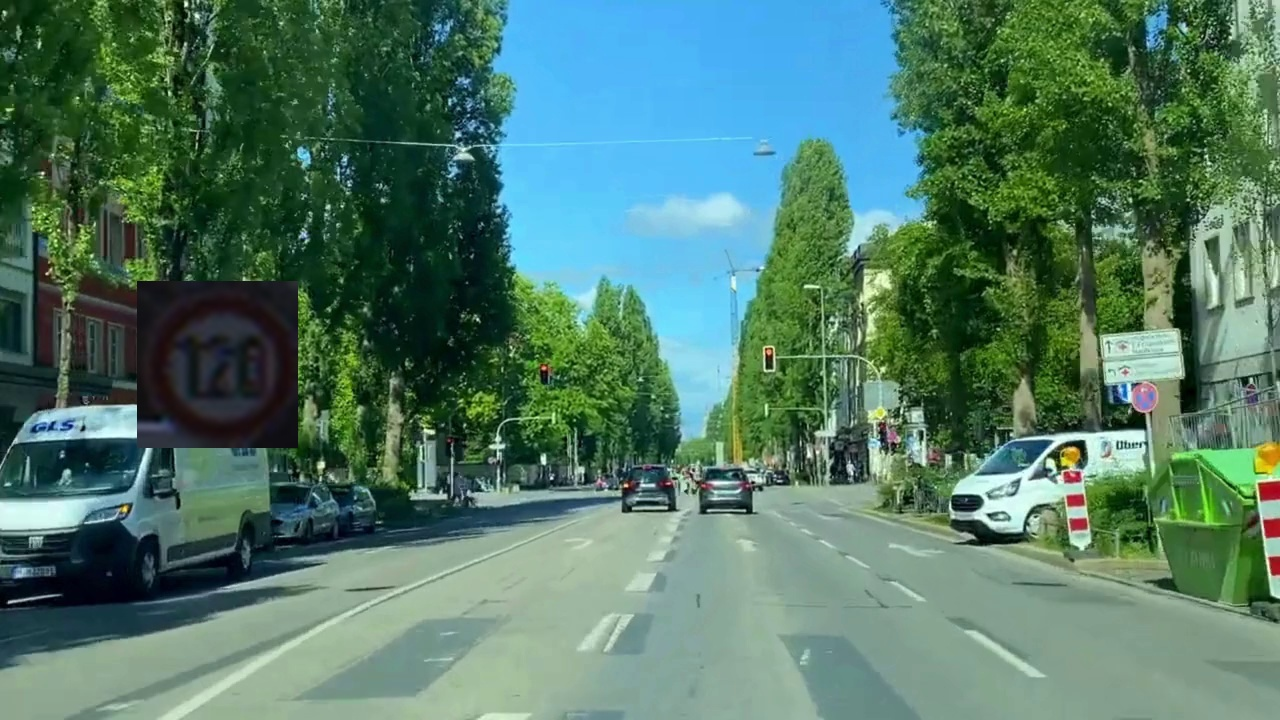Speed 120: (137, 281, 298, 448)
